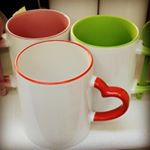cups: (13, 37, 134, 150), (69, 13, 150, 100), (1, 7, 72, 95)
